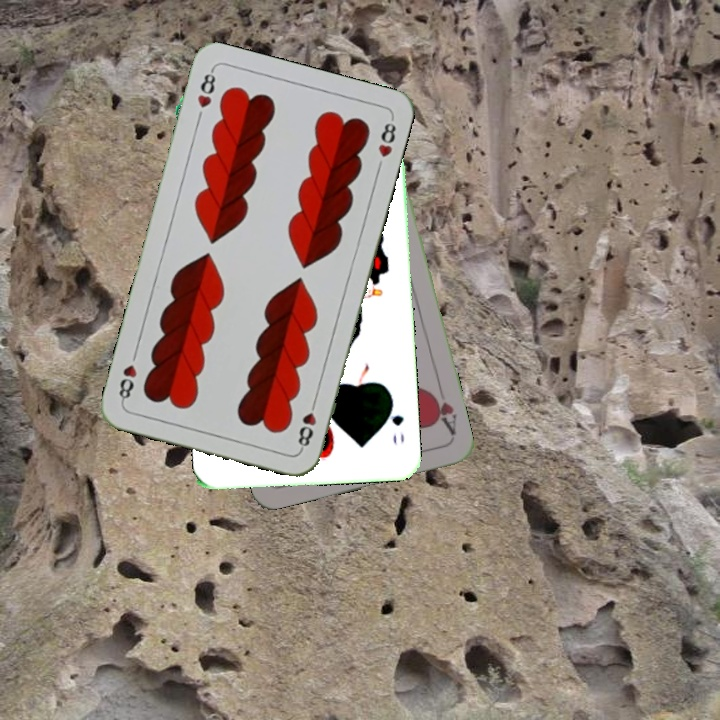GO: (383, 395, 407, 447)
H8: (294, 394, 320, 452), (193, 66, 219, 110)
HA: (426, 386, 460, 438)
